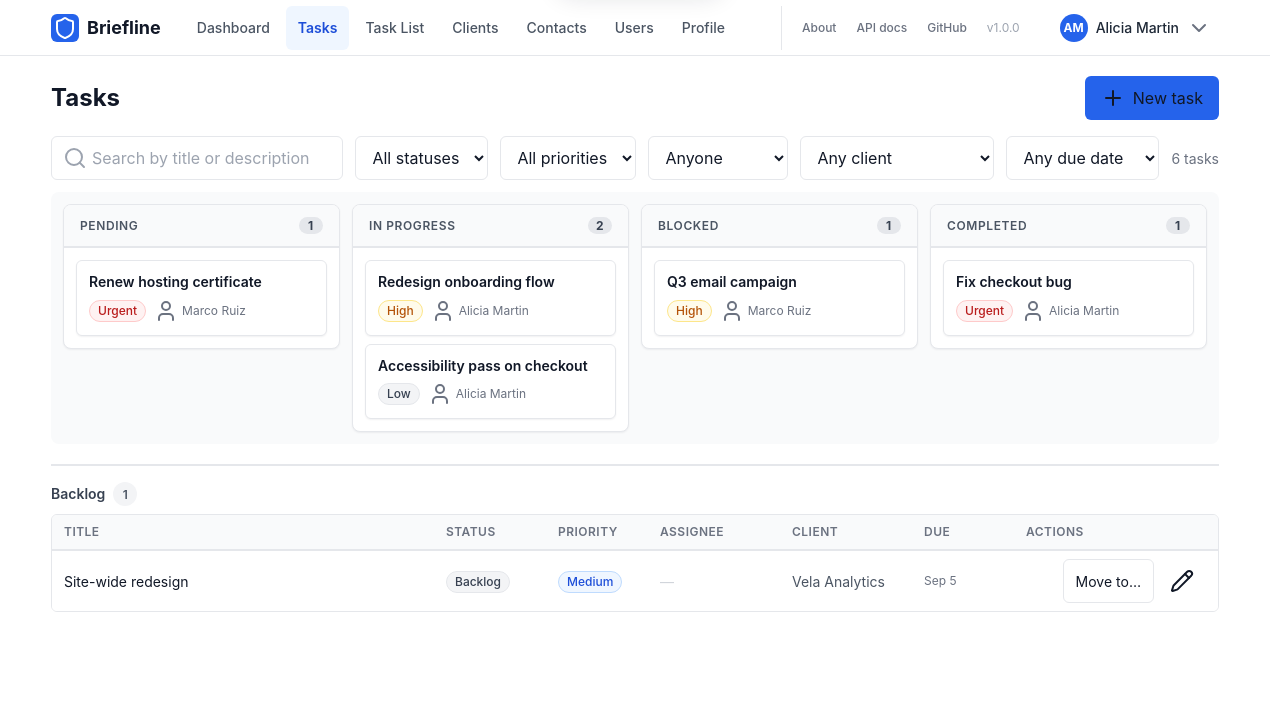
it: Task history (TASK-FE-007) › renders the timeline with event badges and old → new values
The image size is (1280, 720).
Expected: the heading "Tasks" is shown, [51,83,120,113]
Click the button "Redesign onboarding flow" at (490, 298), box [365,260,616,336]
(page scrolled)
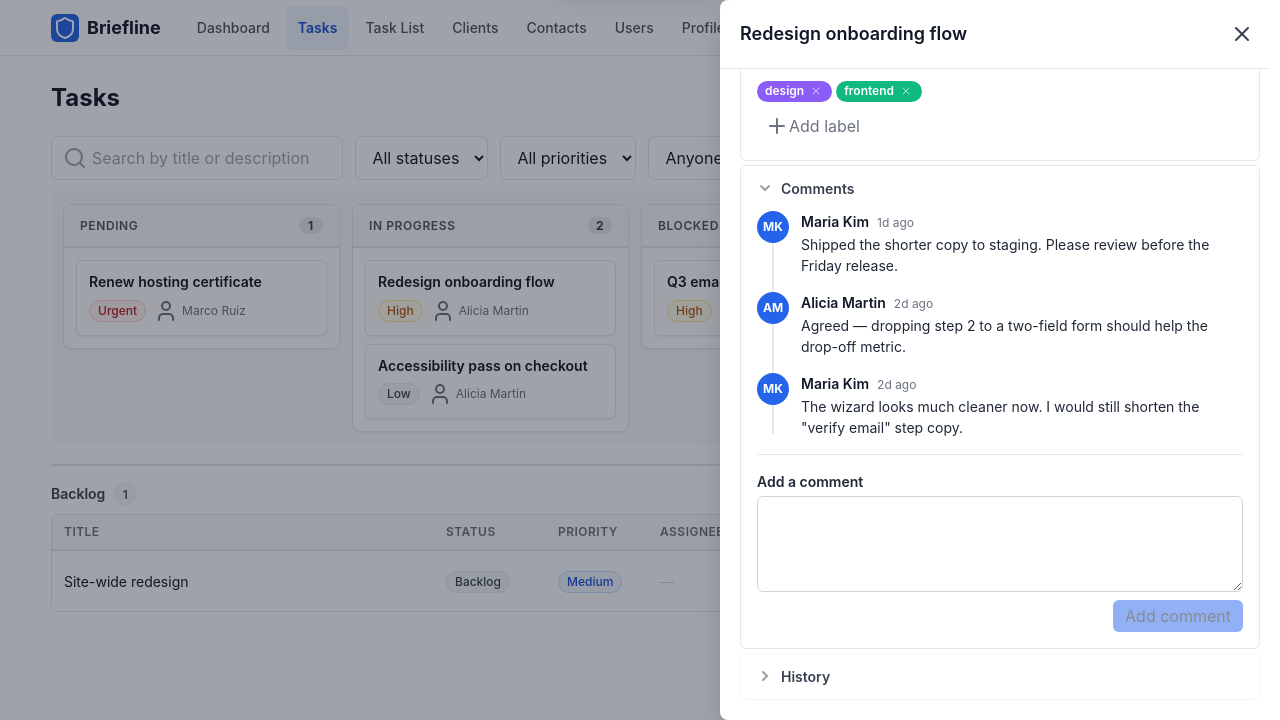
Click the heading "History" at (806, 676), box [741,654,1259,698]
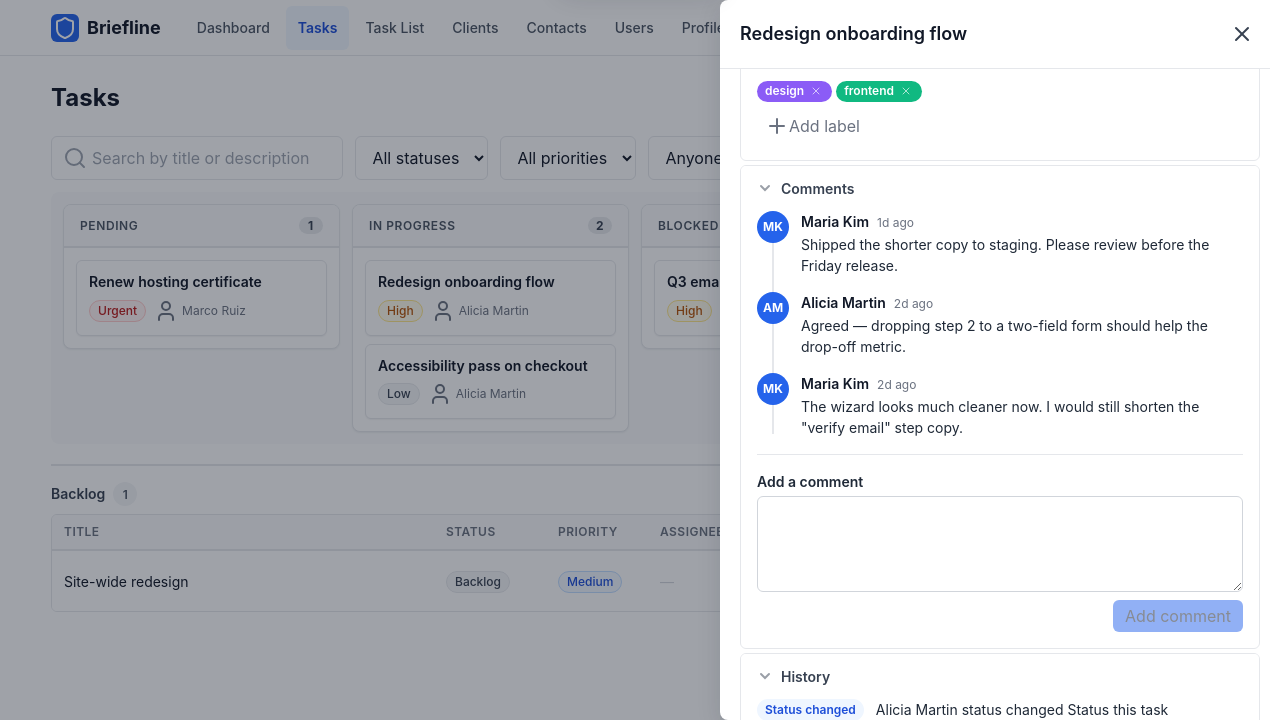
Expected: the text "Status changed" is shown, [757,698,864,719]
Expected: the text "Alicia Martin status changed Status this task" is shown, [876,698,1168,719]
